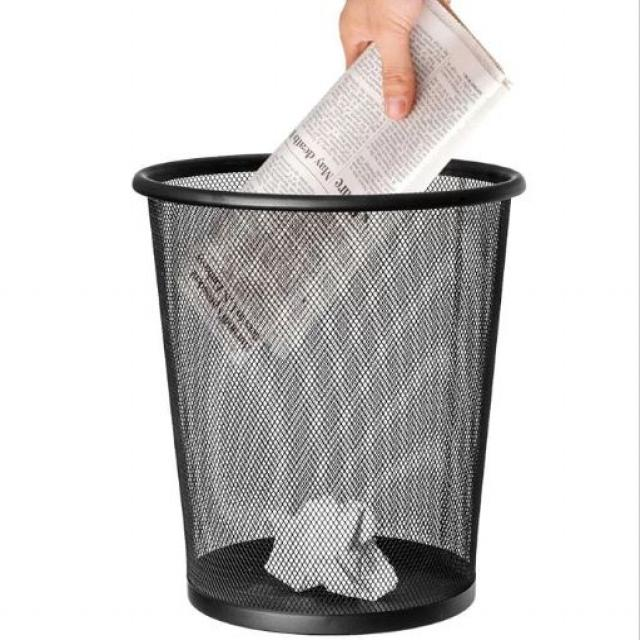metal: (135, 178, 501, 620)
paper: (192, 0, 545, 173), (237, 475, 425, 609)
